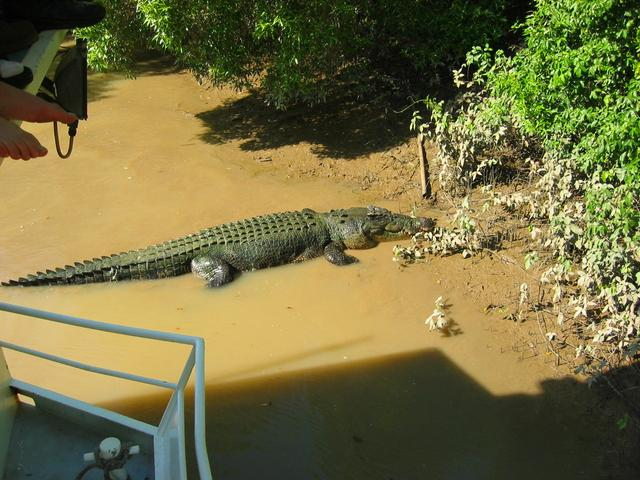crocodile: (1, 177, 456, 308)
